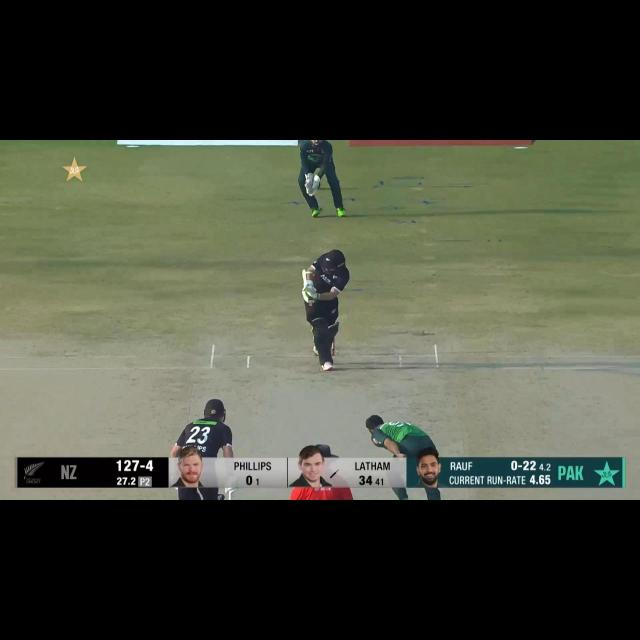toe: (299, 267, 308, 280)
